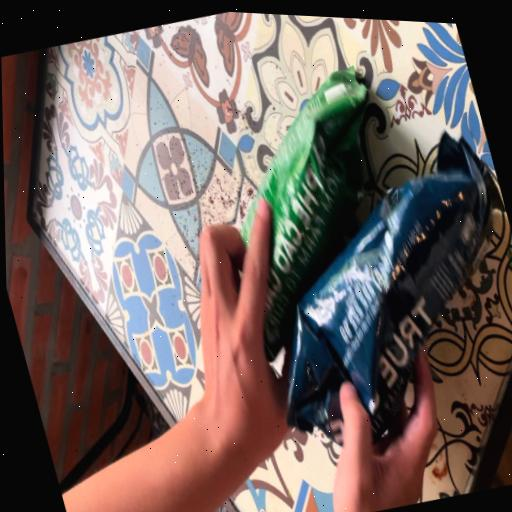cafe_hat: (287, 132, 503, 443)
cafe_xay: (240, 67, 367, 360)
